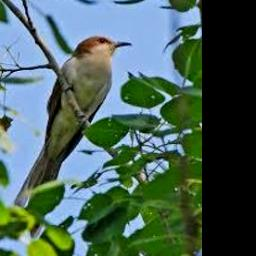Cuckoo: (12, 35, 133, 236)
